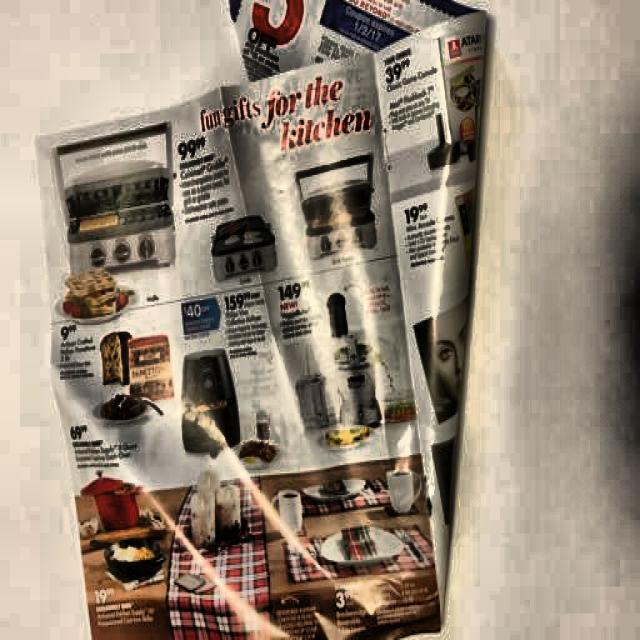paper: (34, 3, 492, 637)
